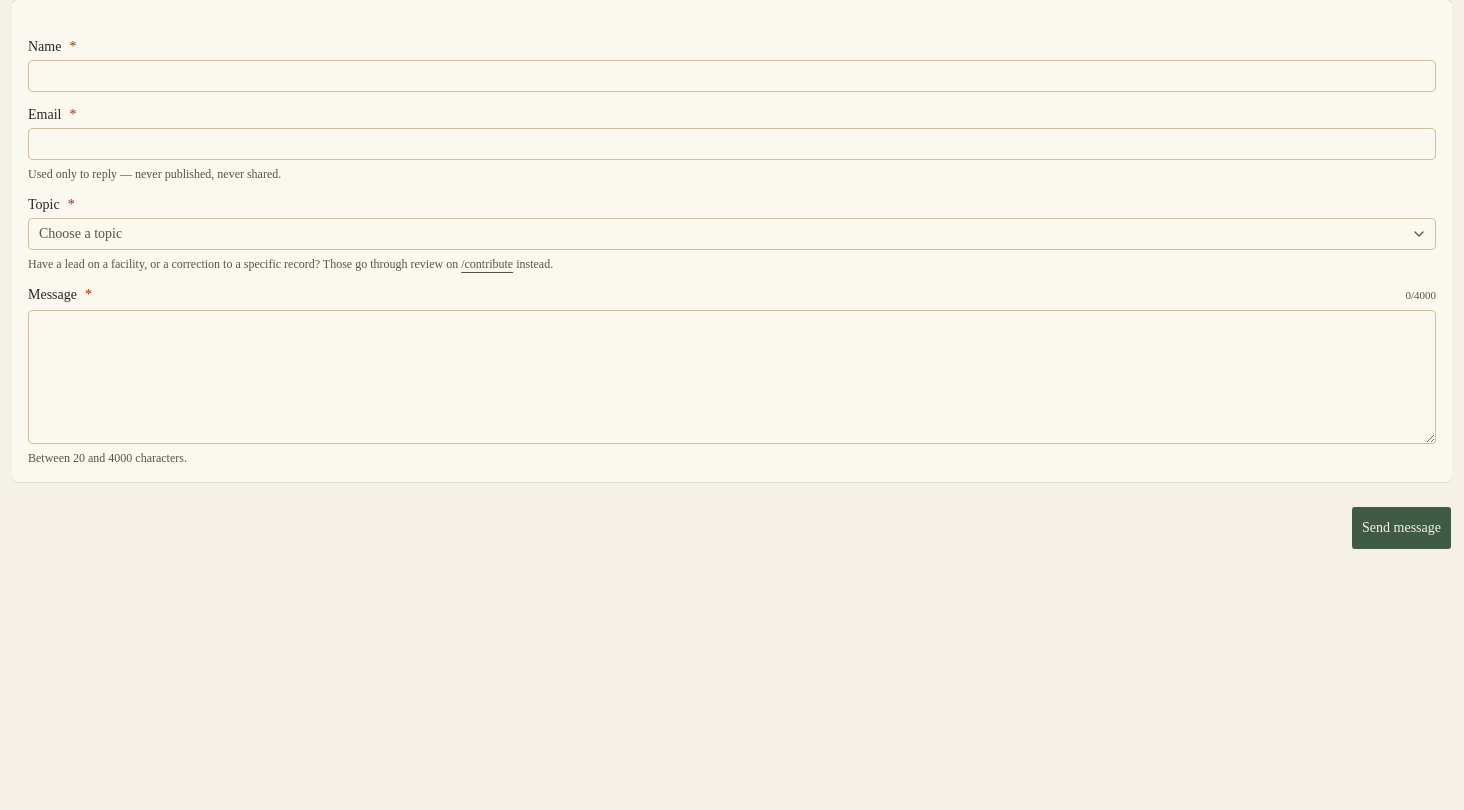
Scenario: ContactForm — submit outcomes › surfaces a field-level error from a 400 response's issues array, next to the right input
Type "Jane Reporter" into the field labelled "Name *" at (732, 76), box [28,60,1436,92]
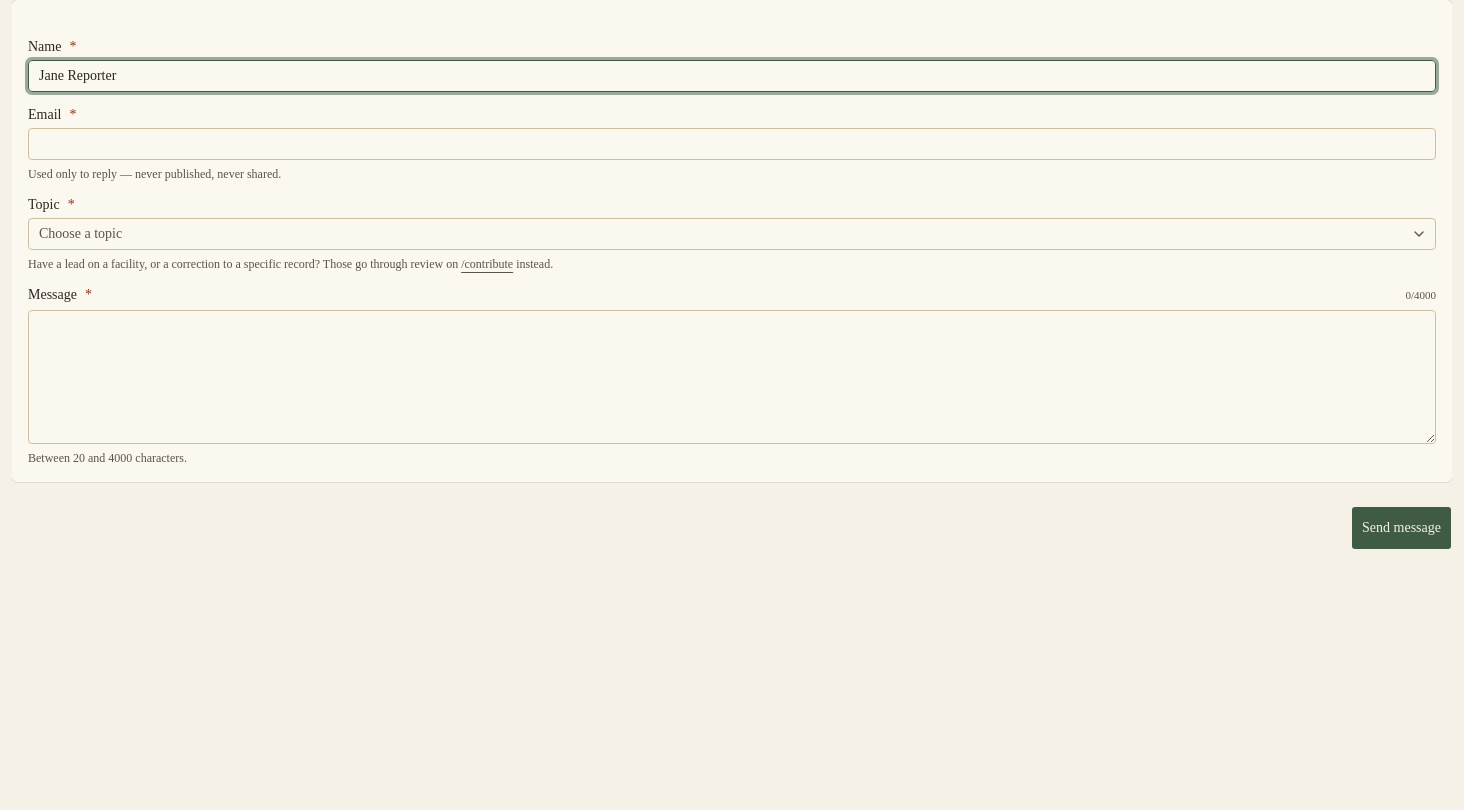
Type "jane@example.com" into the field labelled "Email *" at (732, 144), box [28,128,1436,160]
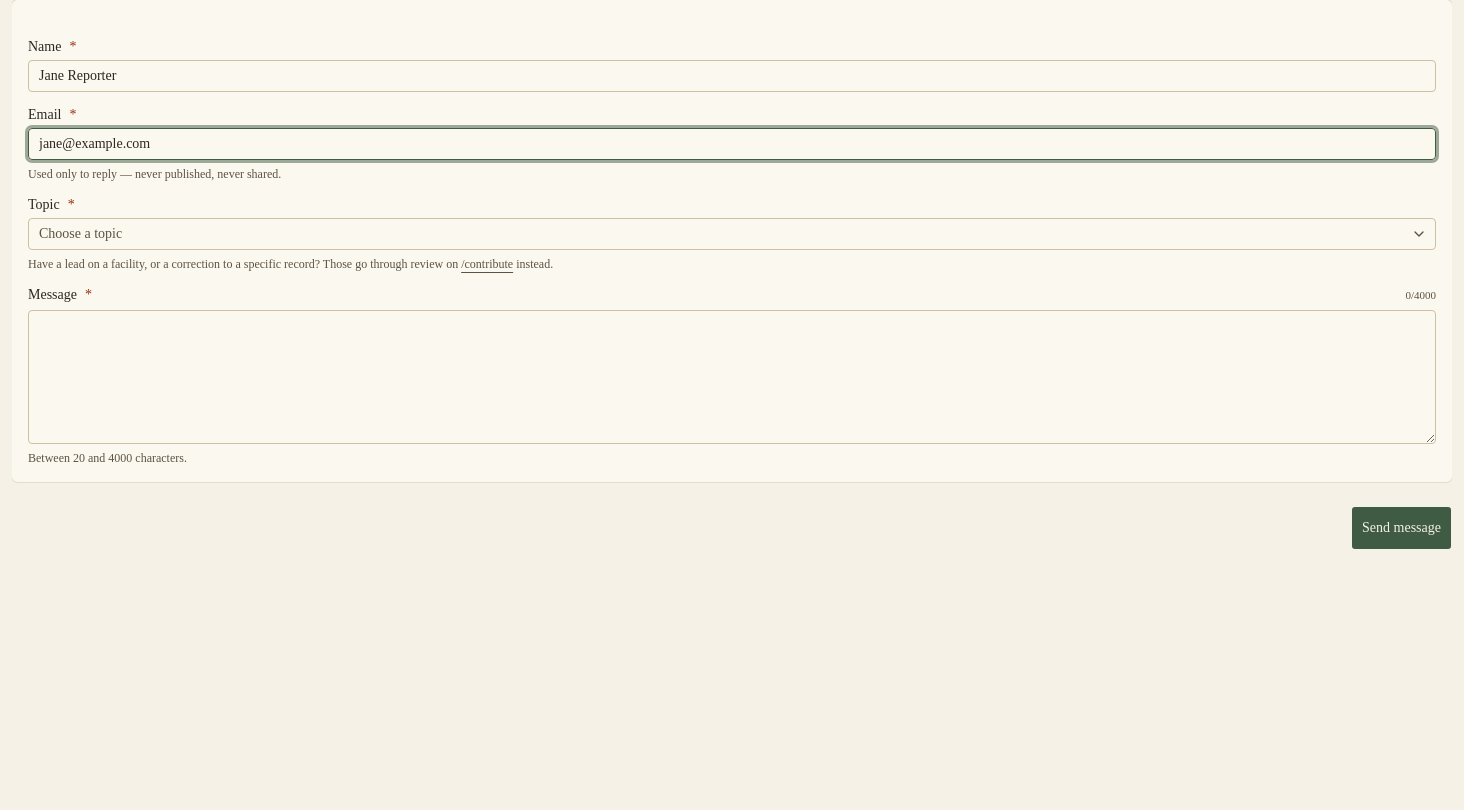
Click the dropdown labelled "Choose a topic ▼" at (81, 234), box [28,218,1436,250]
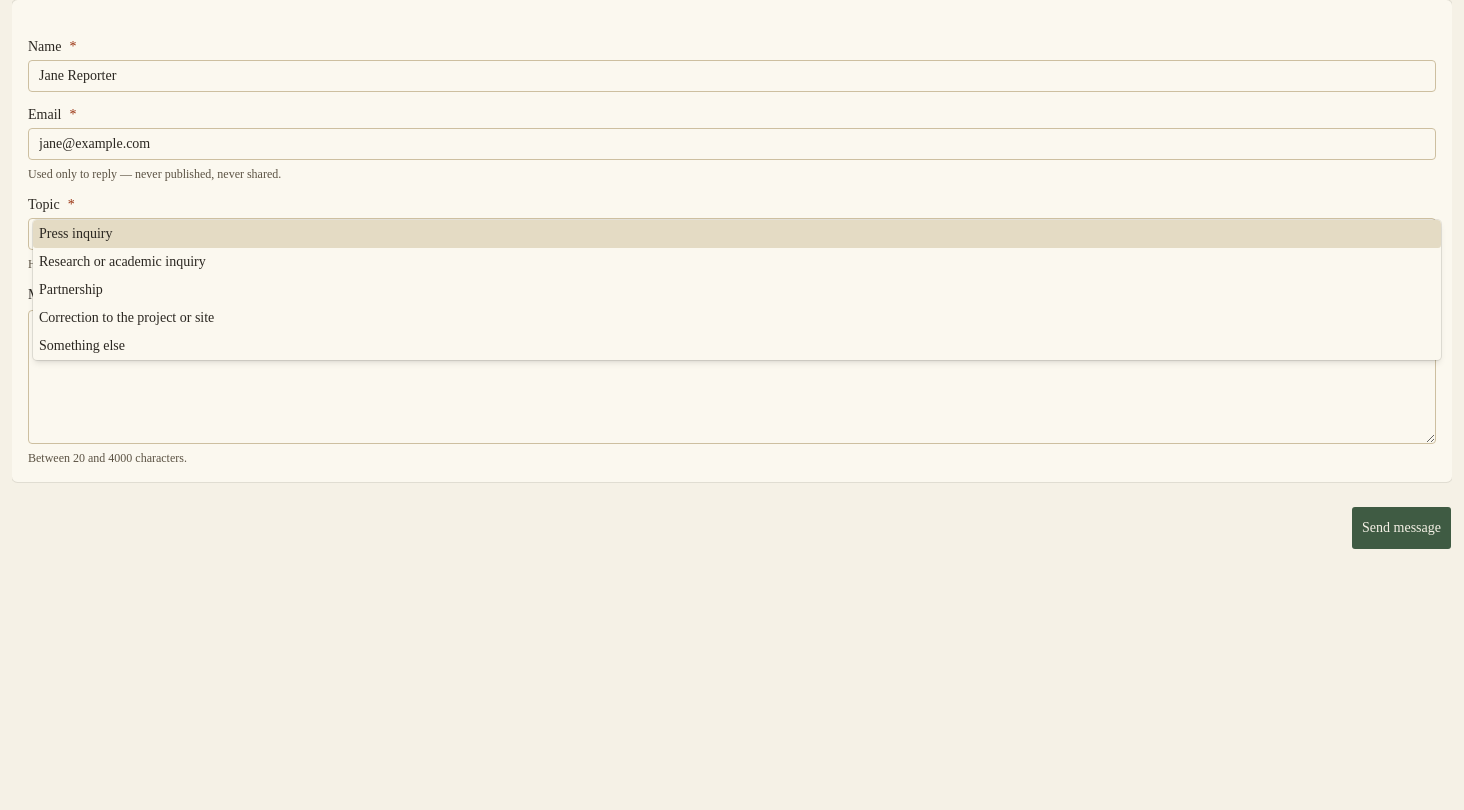
Click the option "Press inquiry" at (76, 234), box [33,220,1441,248]
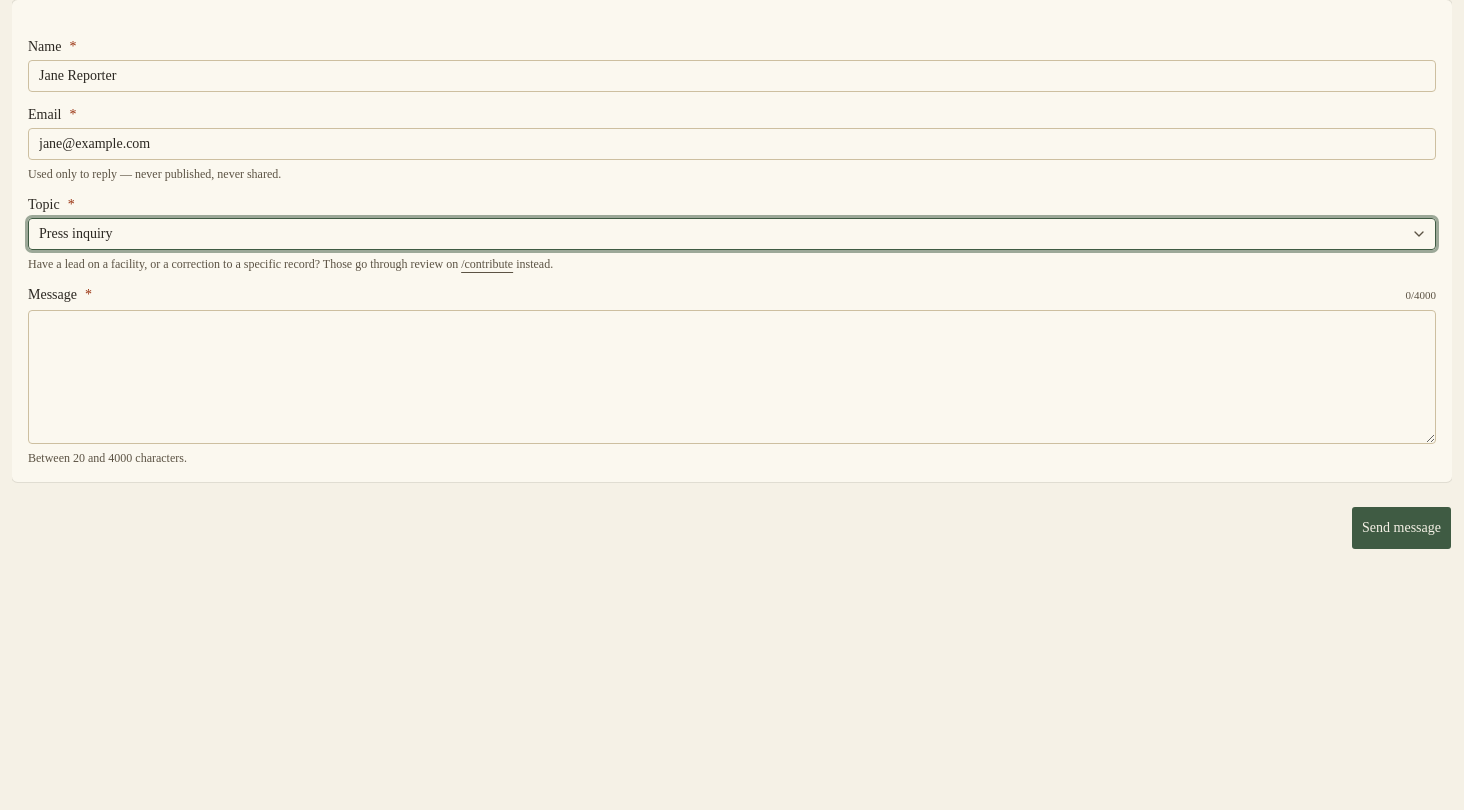
Type "I'm writing a story about data center siting and would like to talk." into the text box labelled "Message *" at (732, 377), box [28,310,1436,444]
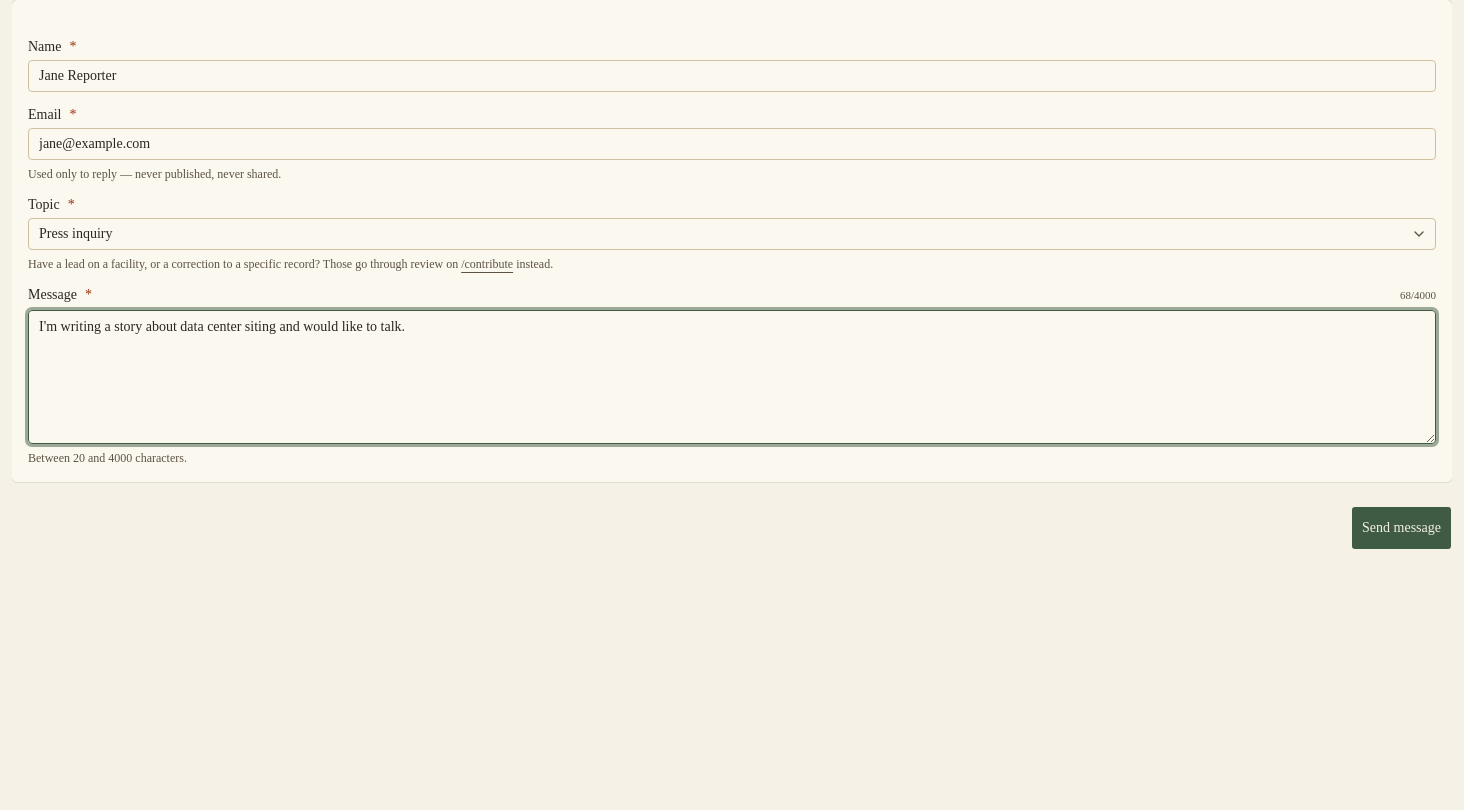
Click the button "Send message" at (1402, 528), box [1351,506,1452,550]
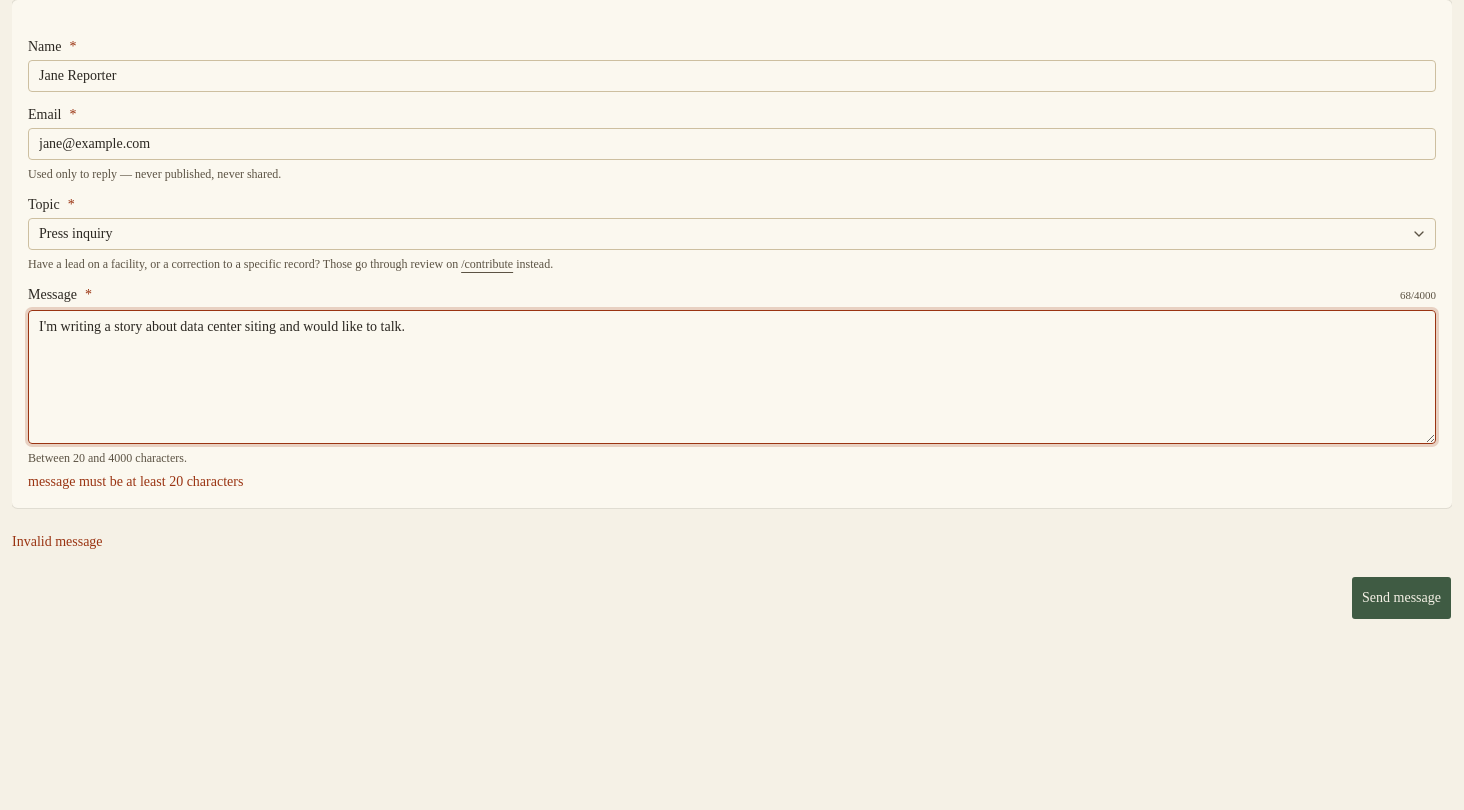
Check: the text "message must be at least 20 characters" is shown, box [28,474,243,489]
